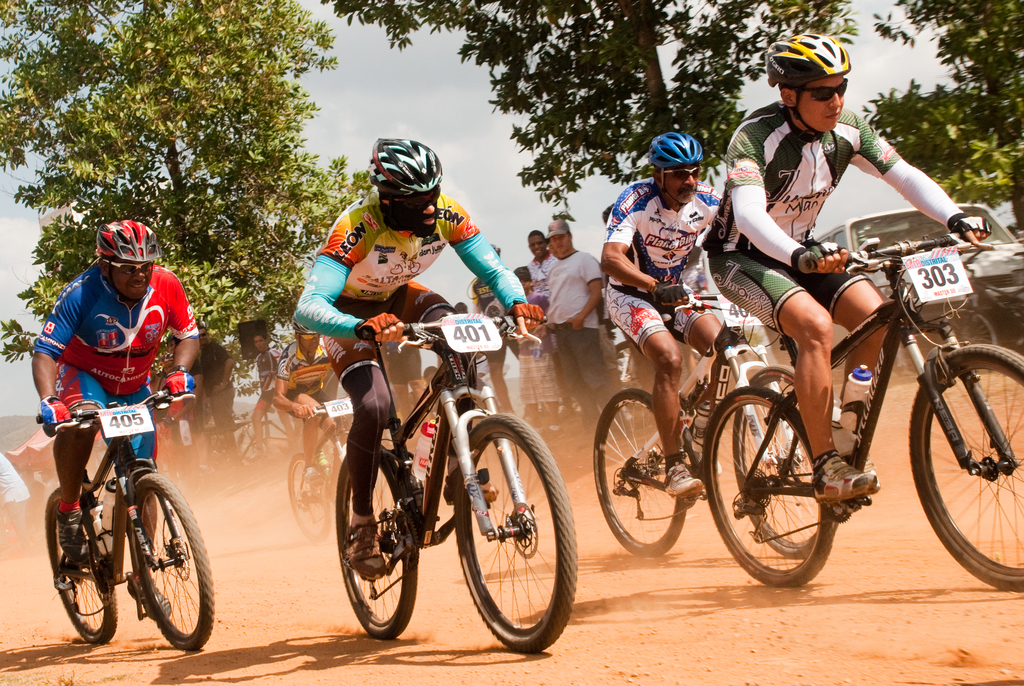Bike_toward: (695, 242, 1022, 608), (286, 314, 593, 653), (23, 399, 227, 656)
